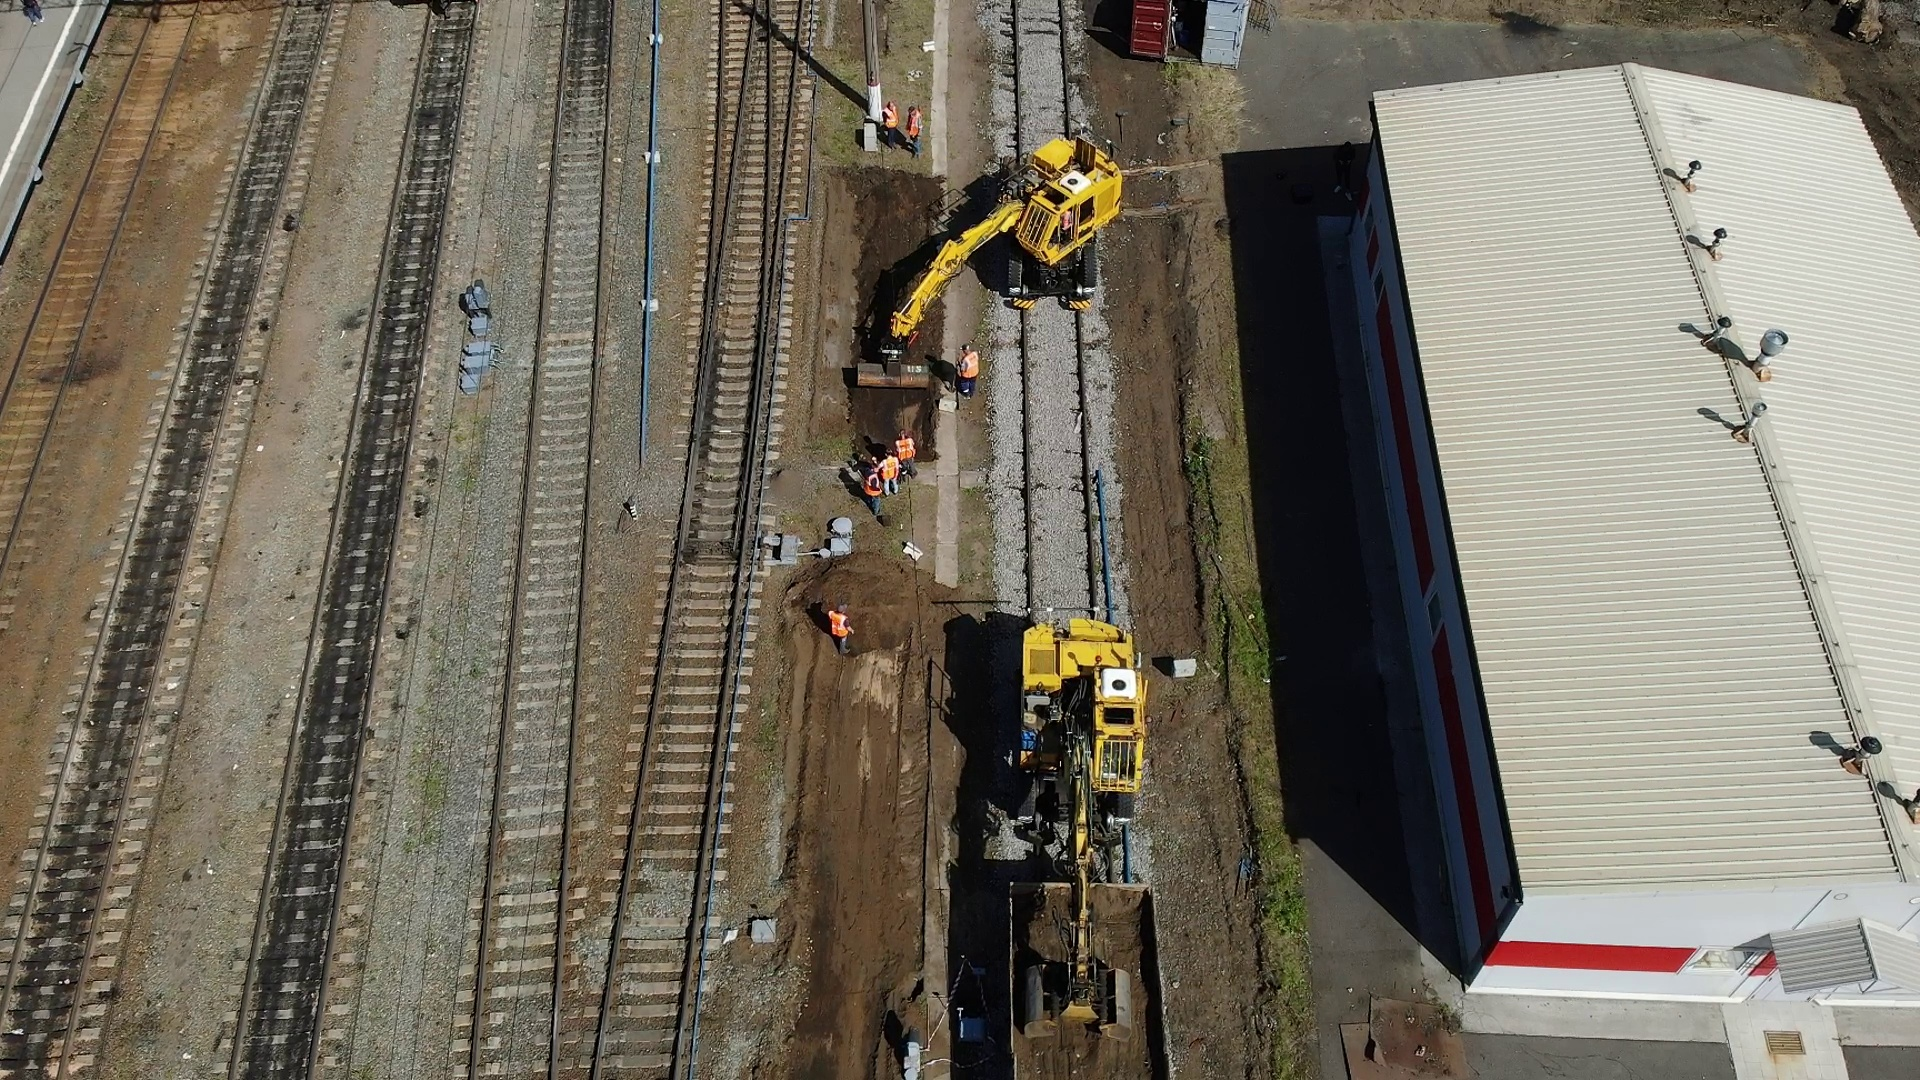kjtv: (1008, 601, 1151, 800), (968, 140, 1112, 305)
